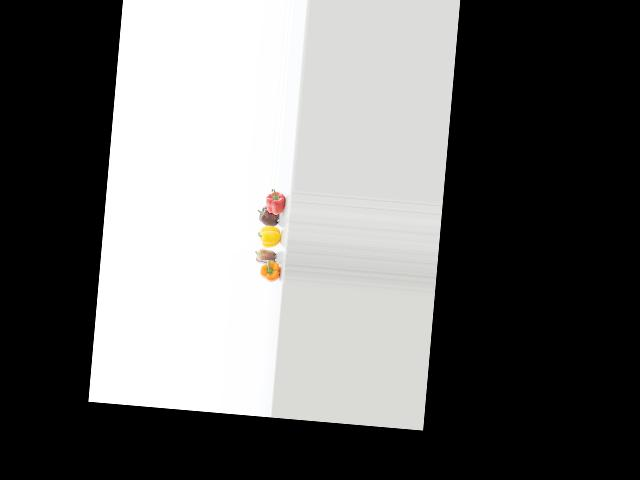bell_pepper: (252, 258, 283, 283)
